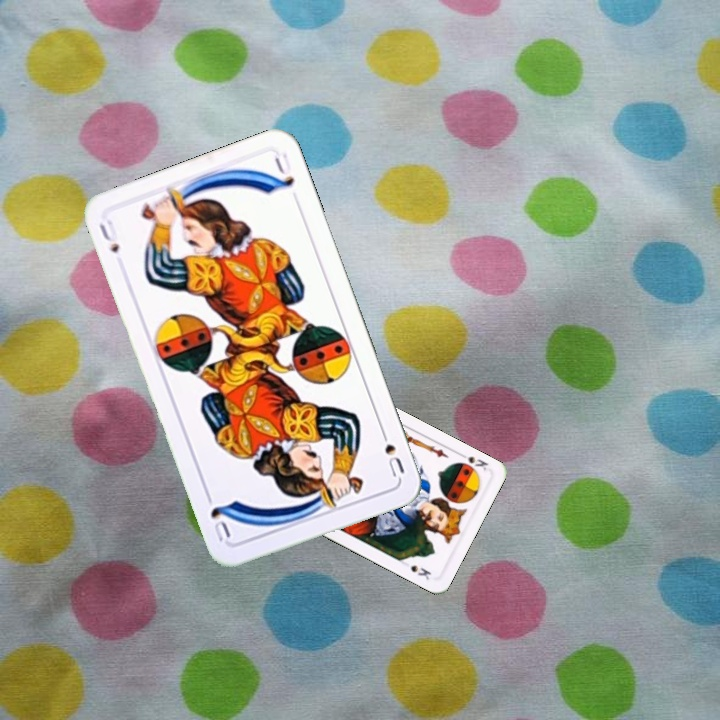SK: (454, 448, 491, 473)
SU: (375, 423, 407, 480), (95, 215, 122, 255)
